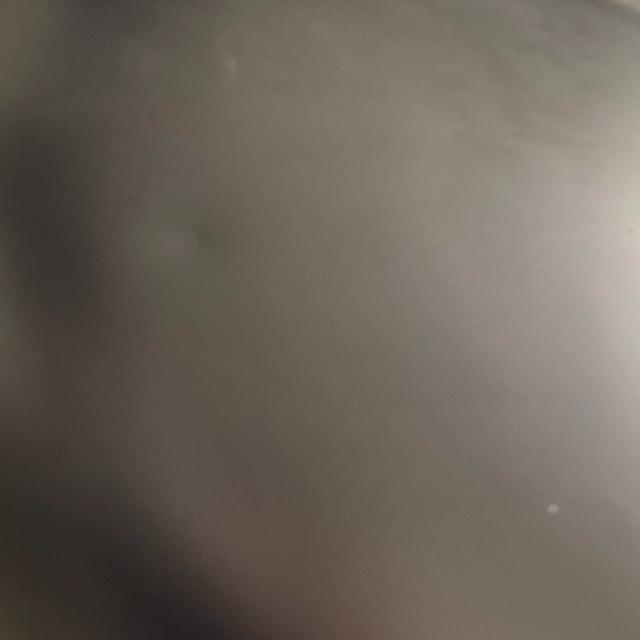dents: (108, 189, 254, 276), (187, 24, 270, 92)
